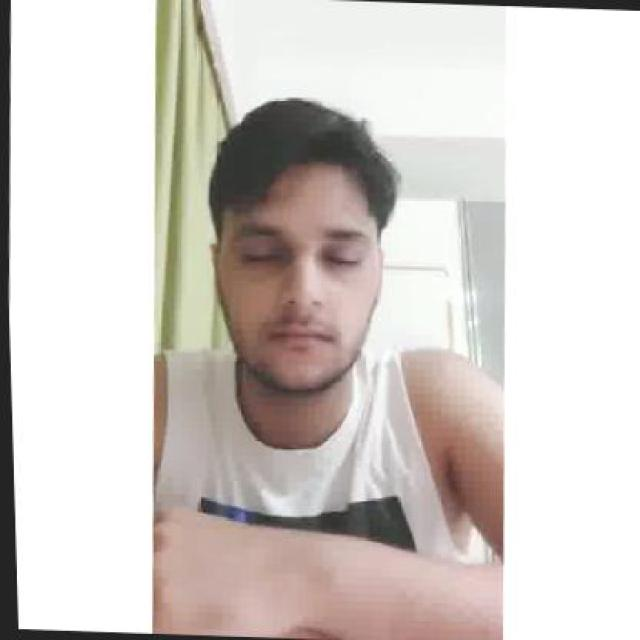inattentif: (195, 89, 390, 400)
